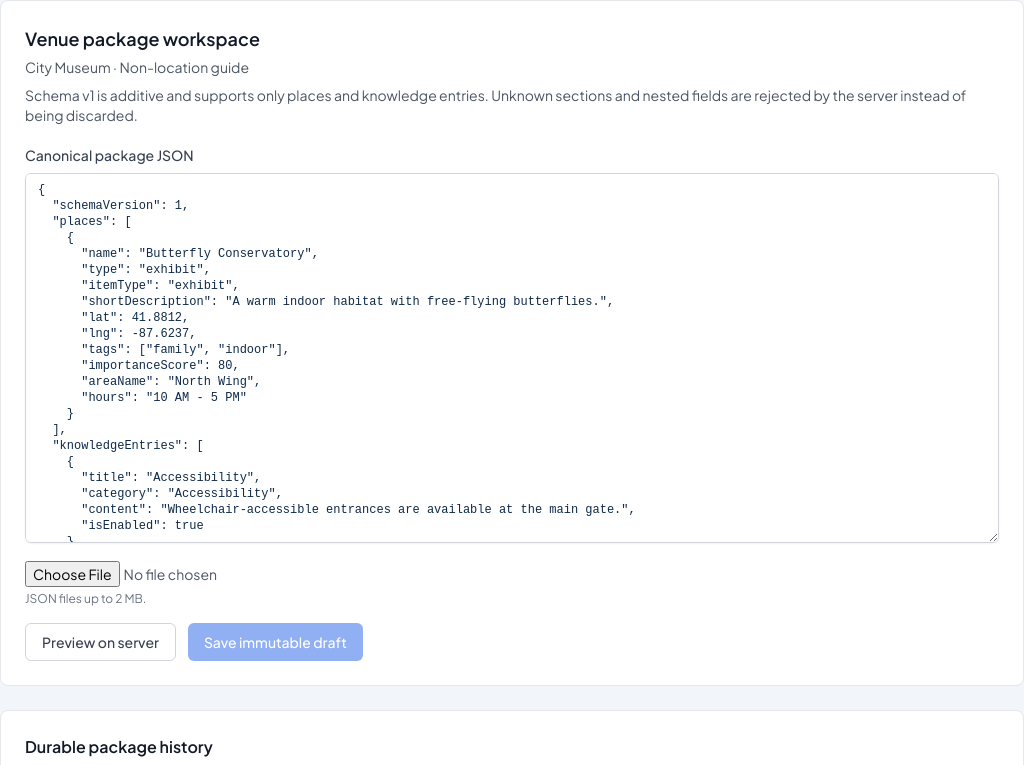
venue package workspace › rotates only a terminal draft identity so unchanged JSON can be retried
Step 1. Click the button "Preview on server" → (100, 642), box [25,623,176,661]
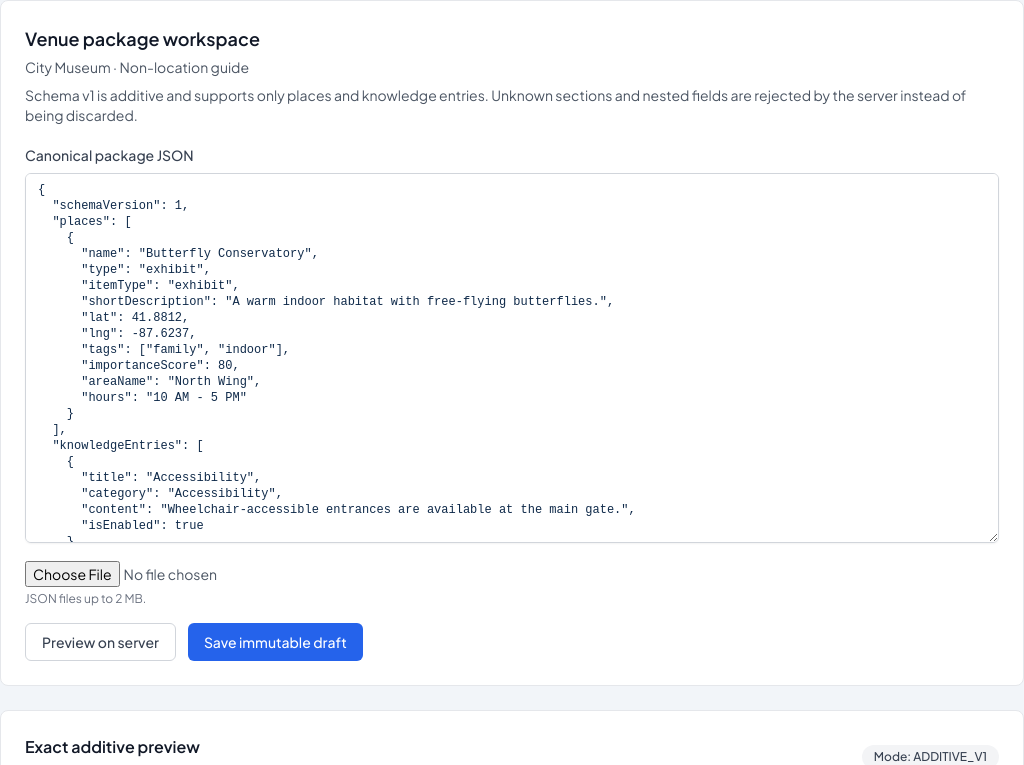
Step 2. Click the button "Save immutable draft" → (275, 642), box [188,623,363,661]
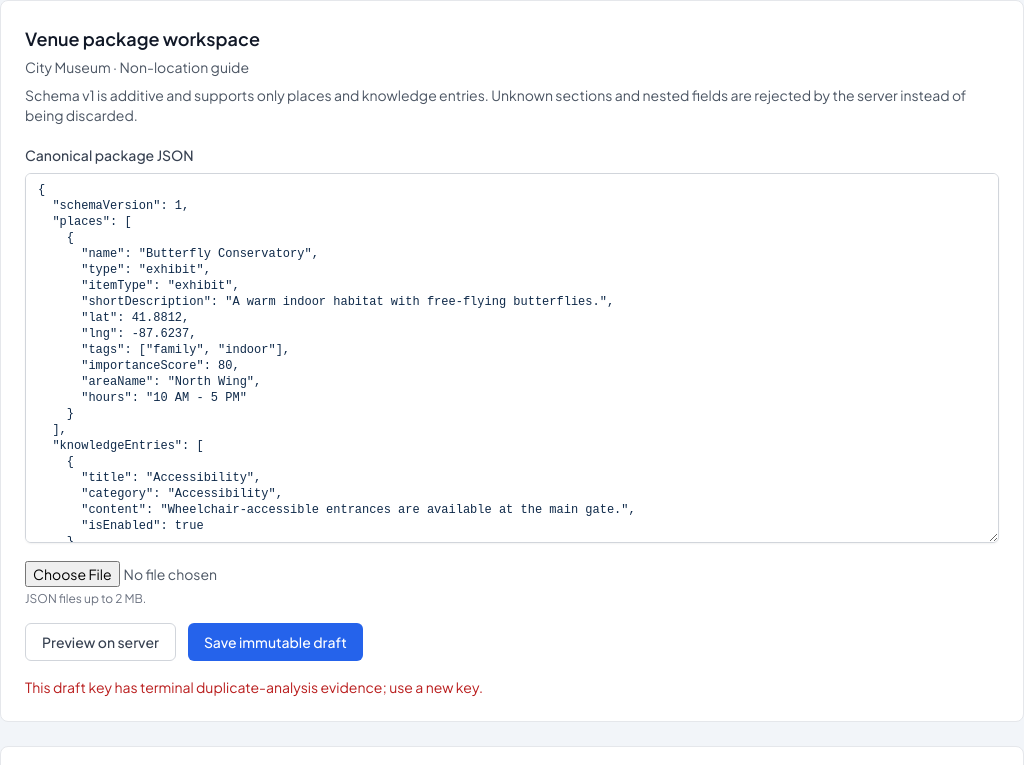
Expected: the message shows "terminal duplicate-analysis", [25,678,483,696]
Step 3. Click the button "Save immutable draft" → (275, 642), box [188,623,363,661]
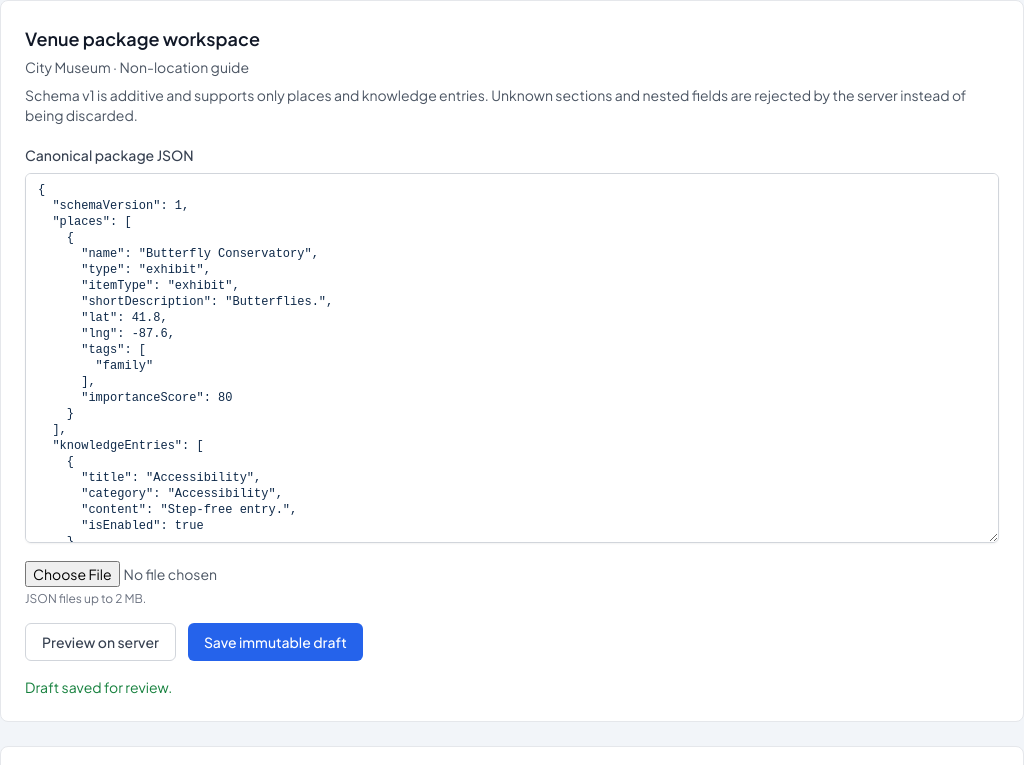
Expected: the text "Draft saved for review." is shown, [25,678,172,696]
